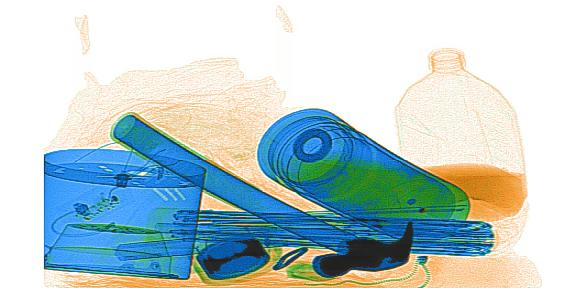knife: (114, 228, 283, 262)
